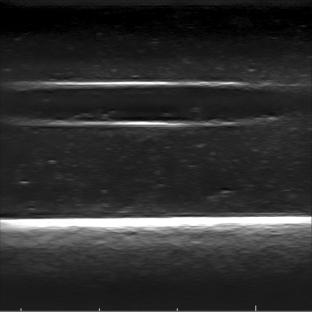vessel: (20, 79, 272, 127)
